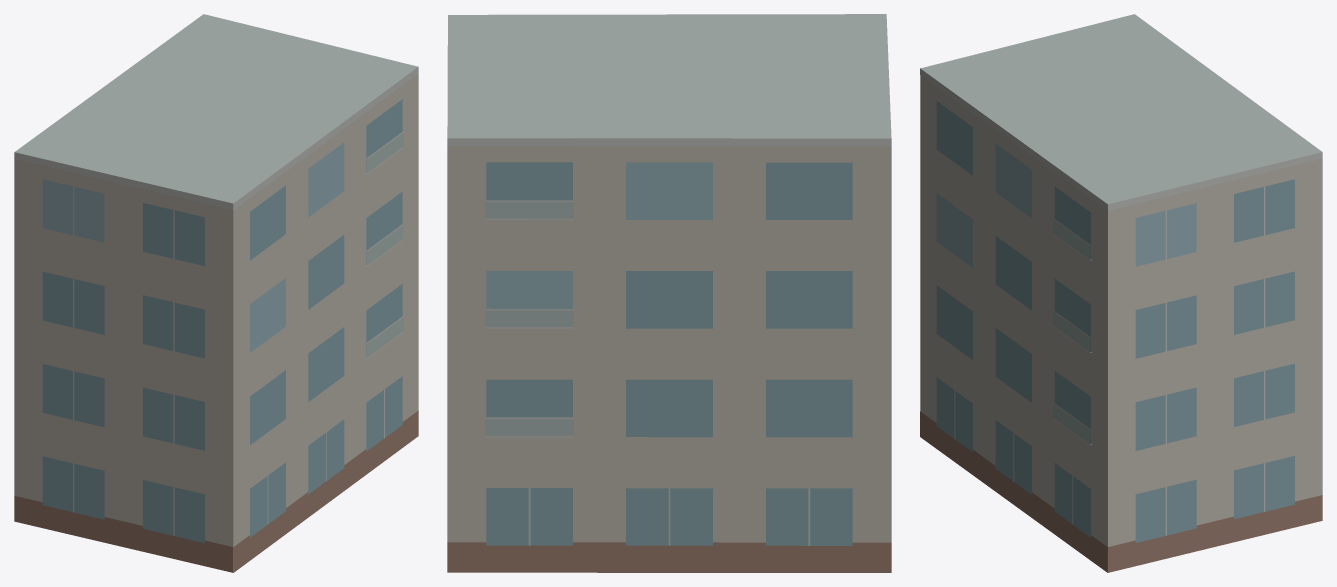
Rendered from survey-upis-32559056.glb.
3 renders of one model, left to right at view 1: azimuth 30°, elevation 25°; view 2: azimuth 150°, elevation 25°; view 3: azimuth 270°, elevation 25°, orthographic. The views are drawn at different scales.
Visible parts, largest first — view 1: survey-upis-32559056.tmp; view 2: survey-upis-32559056.tmp; view 3: survey-upis-32559056.tmp.
Boxes of the visible parts, left/top/right/bottom form: survey-upis-32559056.tmp: left=14, top=14, right=418, bottom=572; survey-upis-32559056.tmp: left=447, top=14, right=891, bottom=572; survey-upis-32559056.tmp: left=920, top=14, right=1322, bottom=572.
Bounding box in the file's own units: 15.07 × 13.6 × 13.47.
